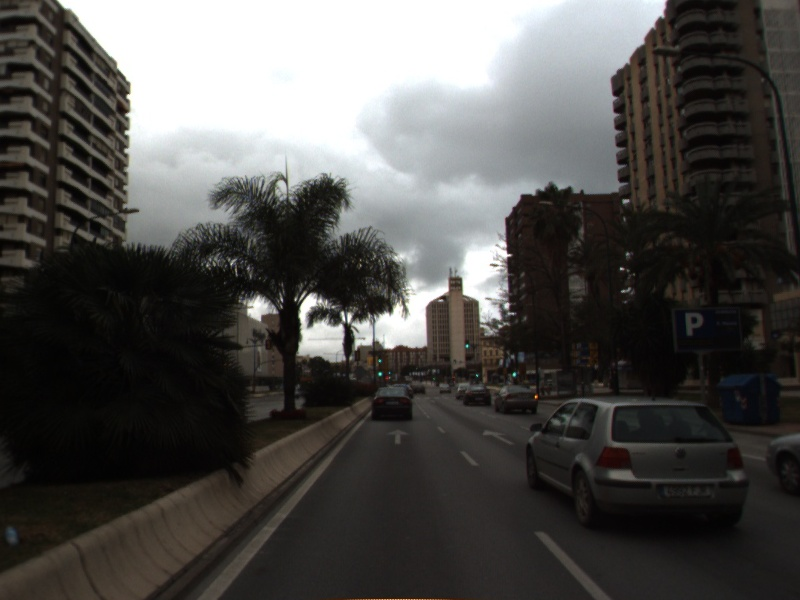STRAIGHT: (480, 427, 518, 447), (384, 427, 412, 446)
